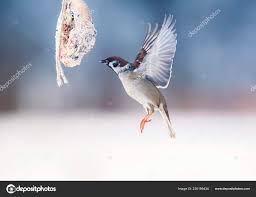hsparrow: (99, 9, 189, 140)
